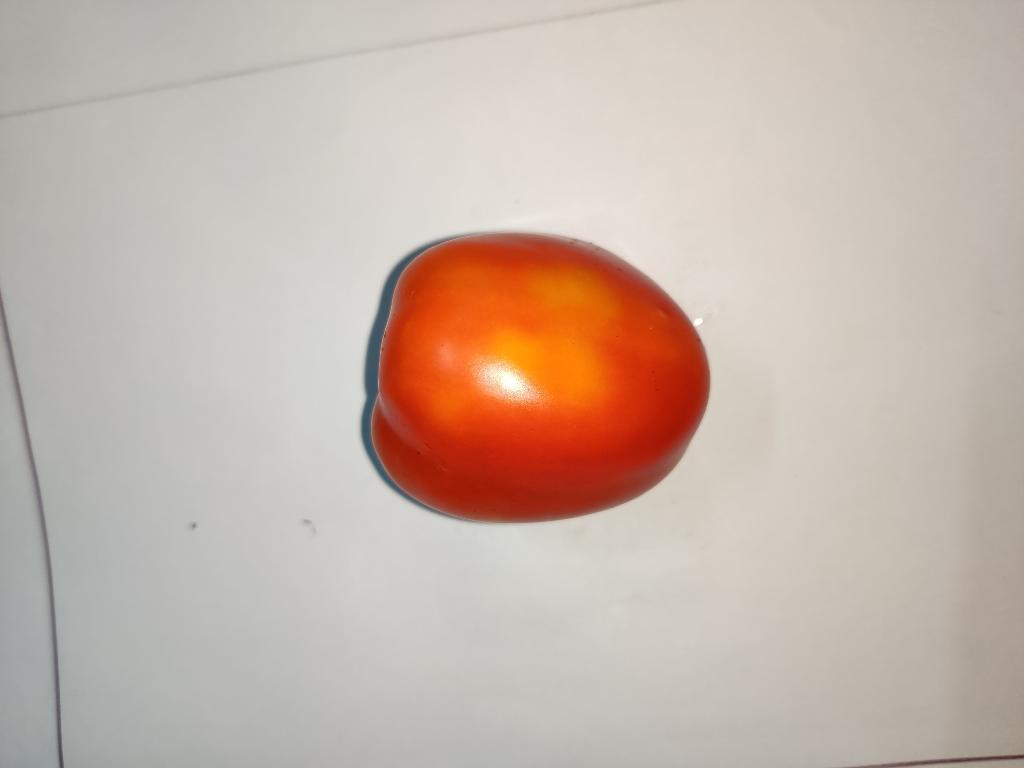bruise_discoloration: (452, 330, 611, 409), (534, 271, 614, 337)
tomato: (372, 233, 709, 522)
